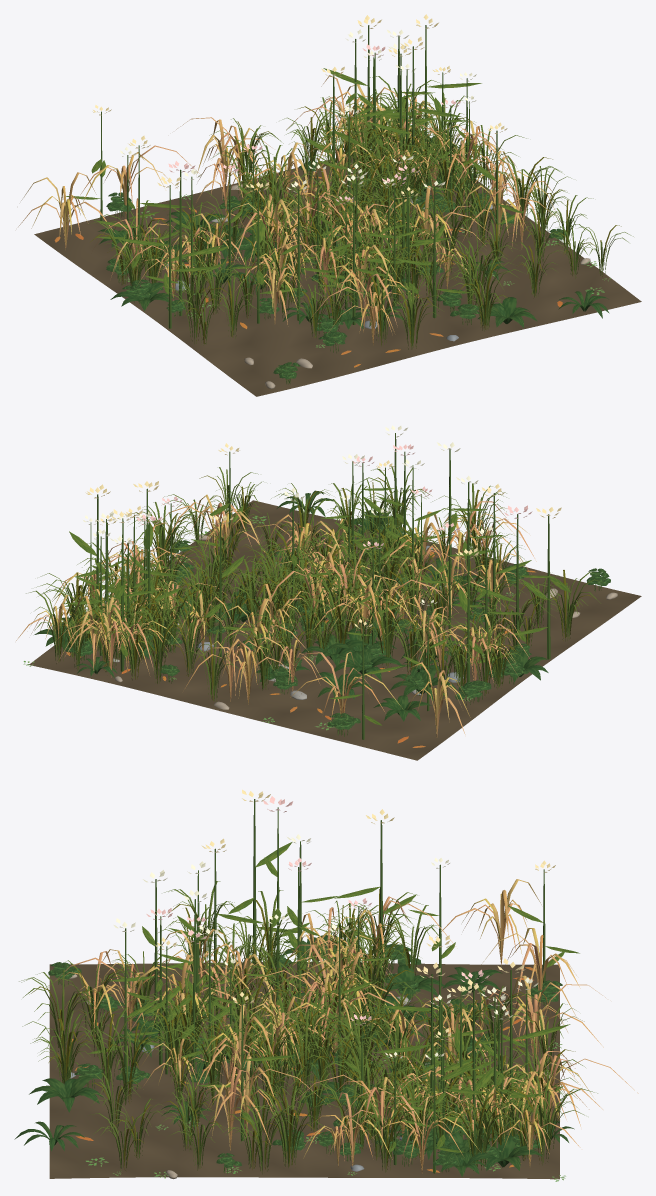
File: field.glb
The picture shows the model from 3 angles, top to bottom: view 1: azimuth 30°, elevation 25°; view 2: azimuth 150°, elevation 25°; view 3: azimuth 270°, elevation 25°; orthographic projection. The views are drawn at different scales.
Parts seen in each view (by area): view 1: Foliage, Ground, DryGrass, Stems, Flowers, Stone; view 2: Foliage, Ground, DryGrass, Stems, Flowers, Stone; view 3: Foliage, Ground, DryGrass, Stems, Flowers.
Part boxes in pixels (left/top/right/bottom): Foliage: left=66, top=68, right=633, bottom=379; Ground: left=34, top=150, right=641, bottom=396; DryGrass: left=18, top=75, right=557, bottom=345; Stems: left=100, top=25, right=561, bottom=384; Flowers: left=92, top=14, right=507, bottom=204; Stone: left=164, top=160, right=590, bottom=388; Foliage: left=26, top=466, right=610, bottom=729; Ground: left=29, top=500, right=641, bottom=760; DryGrass: left=16, top=494, right=536, bottom=737; Stems: left=81, top=433, right=601, bottom=739; Flowers: left=83, top=425, right=561, bottom=629; Stone: left=113, top=535, right=617, bottom=709; Foliage: left=14, top=842, right=597, bottom=1176; Ground: left=49, top=962, right=559, bottom=1179; DryGrass: left=48, top=879, right=638, bottom=1173; Stems: left=58, top=799, right=551, bottom=1174; Flowers: left=113, top=789, right=555, bottom=1059.
Size of the model in its own units: 3.51 by 1.19 by 3.69.
Materials: 8 (1 with a texture image).
